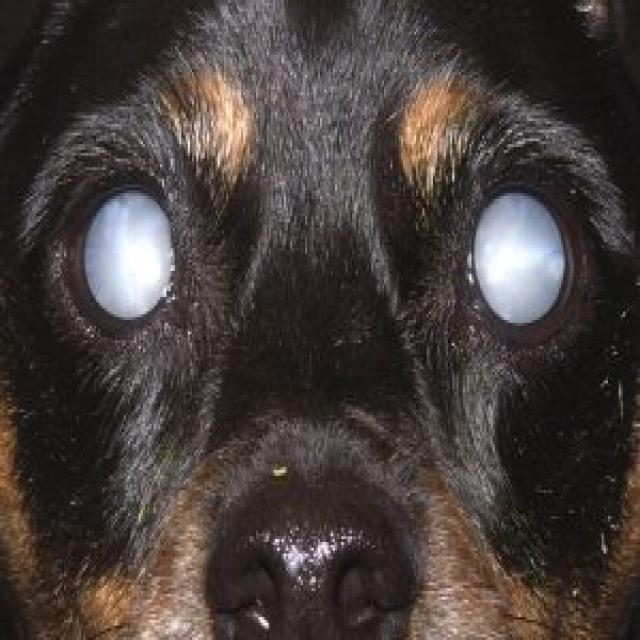eye: (458, 166, 590, 352), (58, 172, 185, 348)
